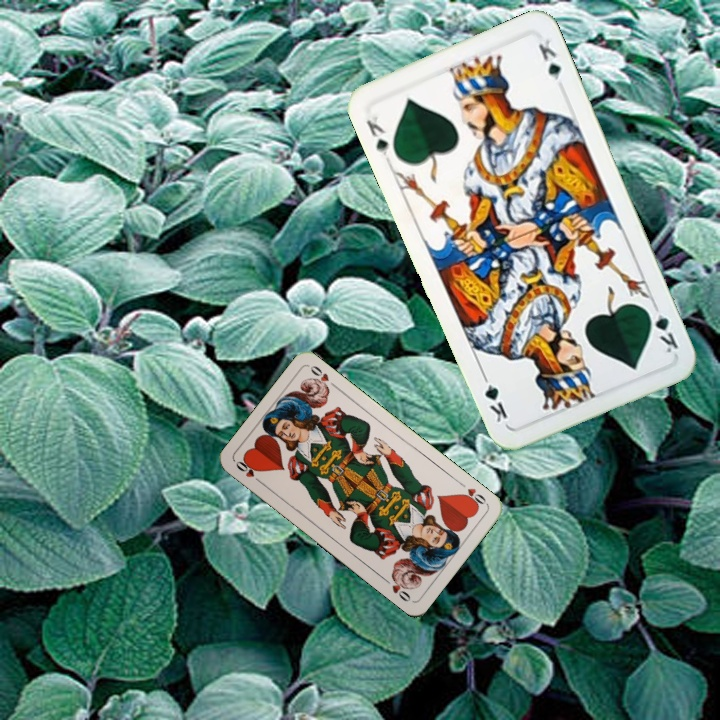GK: (642, 299, 681, 356), (362, 111, 393, 164)
HO: (455, 477, 490, 510), (231, 456, 266, 487)
